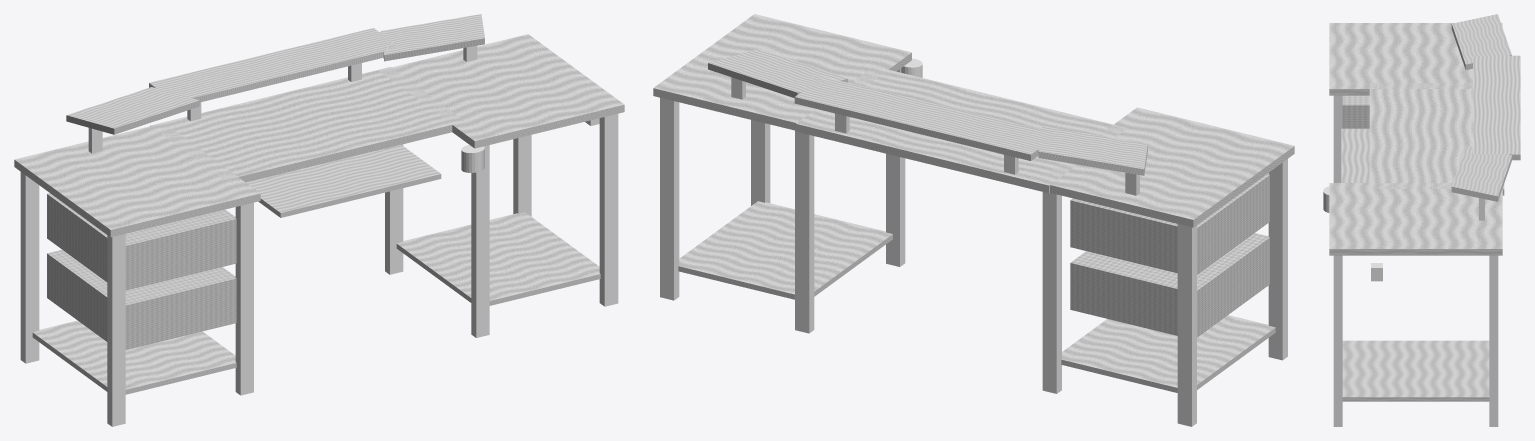
3 renders of one model, left to right at view 1: azimuth 30°, elevation 25°; view 2: azimuth 150°, elevation 25°; view 3: azimuth 270°, elevation 25°, orthographic. The views are drawn at different scales.
Parts seen in each view (by area): view 1: 1 main_desktop, 2 left_wing_desktop, 3 right_wing_desktop, 13 drawer_bottom, 15 cpu_stand_shelf, 12 drawer_top, 14 drawer_bottom_shelf, 11 keyboard_tray, 4 monitor_shelf_center, 22 leg_right_front_outer, 17 leg_left_back_outer, 16 leg_left_front_outer (+7 smaller); view 2: 2 left_wing_desktop, 1 main_desktop, 3 right_wing_desktop, 13 drawer_bottom, 15 cpu_stand_shelf, 12 drawer_top, 14 drawer_bottom_shelf, 4 monitor_shelf_center, 17 leg_left_back_outer, 19 leg_left_back_inner, 23 leg_right_back_outer, 21 leg_right_back_inner (+5 smaller); view 3: 3 right_wing_desktop, 1 main_desktop, 15 cpu_stand_shelf, 2 left_wing_desktop, 4 monitor_shelf_center, 6 monitor_shelf_right, 5 monitor_shelf_left, 22 leg_right_front_outer, 23 leg_right_back_outer, 11 keyboard_tray, 12 drawer_top, 18 leg_left_front_inner (+1 smaller).
Boxes of the visible parts, box(x1,y1,x2,y2) form: 1 main_desktop: box(150, 67, 465, 182); 2 left_wing_desktop: box(14, 123, 260, 237); 3 right_wing_desktop: box(379, 34, 624, 148); 13 drawer_bottom: box(47, 249, 236, 349); 15 cpu_stand_shelf: box(396, 212, 600, 305); 12 drawer_top: box(47, 193, 236, 290); 14 drawer_bottom_shelf: box(32, 320, 236, 394); 11 keyboard_tray: box(246, 144, 441, 217); 4 monitor_shelf_center: box(149, 28, 399, 102); 22 leg_right_front_outer: box(599, 114, 618, 306); 17 leg_left_back_outer: box(20, 172, 39, 363); 16 leg_left_front_outer: box(107, 234, 125, 426); 2 left_wing_desktop: box(1037, 107, 1294, 227); 1 main_desktop: box(796, 66, 1127, 193); 3 right_wing_desktop: box(653, 14, 911, 130); 13 drawer_bottom: box(1070, 233, 1269, 337); 15 cpu_stand_shelf: box(678, 201, 892, 299); 12 drawer_top: box(1070, 173, 1269, 274); 14 drawer_bottom_shelf: box(1061, 315, 1275, 392); 4 monitor_shelf_center: box(794, 76, 1058, 160); 17 leg_left_back_outer: box(1177, 224, 1196, 426); 19 leg_left_back_inner: box(1042, 192, 1061, 393); 23 leg_right_back_outer: box(660, 97, 679, 300); 21 leg_right_back_inner: box(795, 130, 814, 333); 3 right_wing_desktop: box(1329, 183, 1502, 255); 1 main_desktop: box(1369, 83, 1504, 195); 15 cpu_stand_shelf: box(1342, 340, 1489, 401); 2 left_wing_desktop: box(1329, 23, 1502, 95); 4 monitor_shelf_center: box(1473, 55, 1520, 160); 6 monitor_shelf_right: box(1451, 146, 1511, 201); 5 monitor_shelf_left: box(1451, 14, 1511, 69); 22 leg_right_front_outer: box(1333, 255, 1342, 426); 23 leg_right_back_outer: box(1489, 255, 1498, 426); 11 keyboard_tray: box(1341, 128, 1369, 182); 12 drawer_top: box(1342, 95, 1369, 128); 18 leg_left_front_inner: box(1333, 95, 1342, 182).
Size of the model in its own units: 2.3 by 1 by 0.85.
4 materials, 2 textured.
